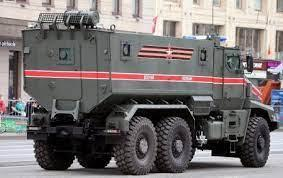truck: (12, 8, 278, 176)
